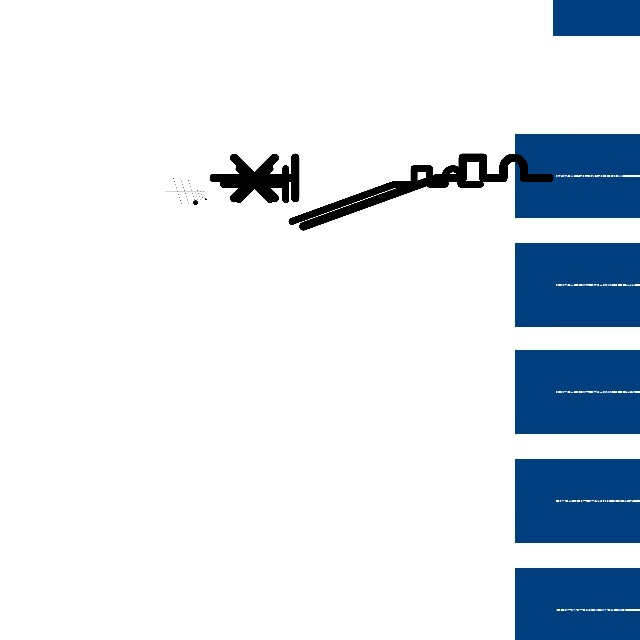interruptor_termomagnetico: (204, 149, 557, 235), (216, 162, 486, 228)
